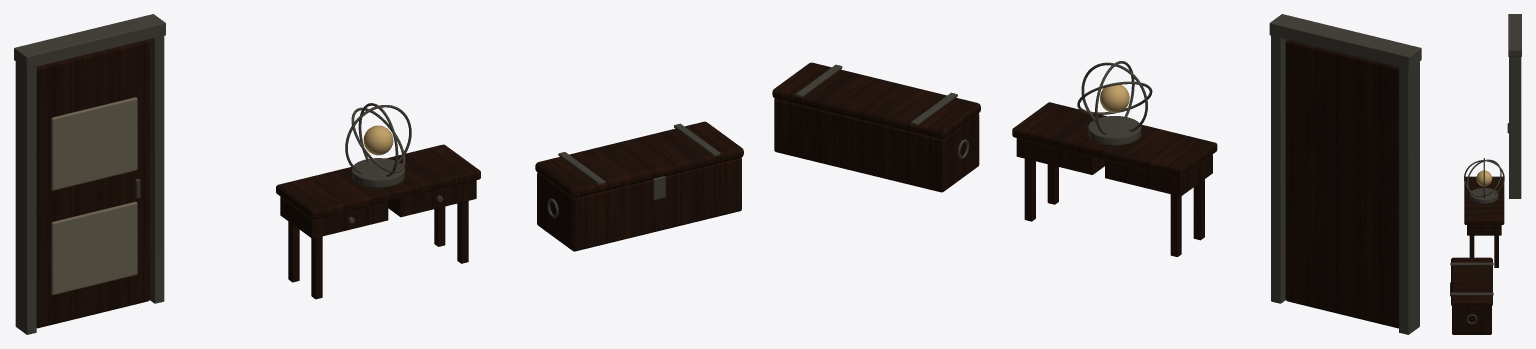
File: south.glb
3 renders of one model, left to right at view 1: azimuth 30°, elevation 25°; view 2: azimuth 150°, elevation 25°; view 3: azimuth 270°, elevation 25°, orthographic. The views are drawn at different scales.
Parts seen in each view (by area): view 1: pirate-captains-cabin south; view 2: pirate-captains-cabin south; view 3: pirate-captains-cabin south.
Boxes of the visible parts, x1,y1,x2,y2 form: pirate-captains-cabin south: (14,14,743,334); pirate-captains-cabin south: (772,14,1421,334); pirate-captains-cabin south: (1450,14,1521,334).
Size of the model in its own units: 6.68 by 2.67 by 1.17.
Materials: 5 (1 with a texture image).
